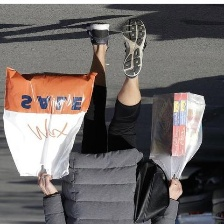plastic_bag: (0, 63, 105, 187), (146, 89, 210, 184)
